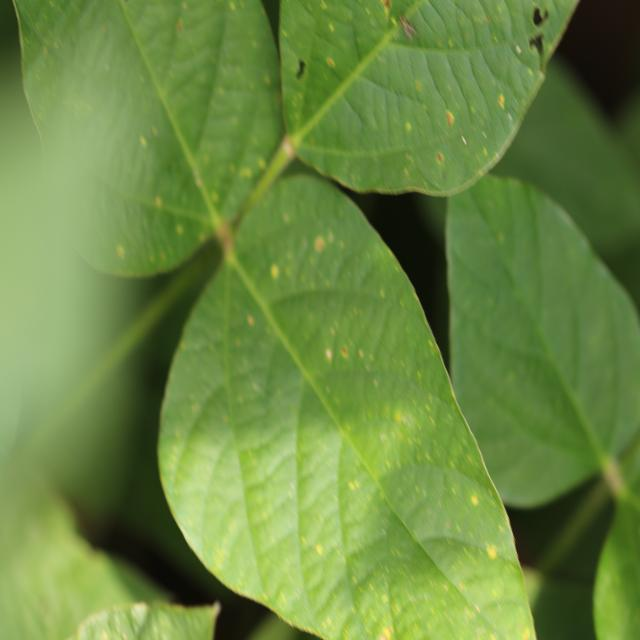Soybean: (9, 0, 640, 640)
downey_mildew: (327, 345, 448, 527), (553, 211, 633, 445), (41, 22, 151, 167), (384, 527, 503, 635), (375, 0, 543, 71), (476, 334, 582, 440), (76, 177, 191, 267), (311, 298, 399, 390), (28, 5, 105, 105), (405, 67, 476, 170), (235, 391, 296, 501), (266, 219, 342, 303), (448, 475, 512, 568), (17, 8, 44, 154), (264, 605, 335, 638), (328, 92, 371, 141), (13, 5, 28, 99), (398, 15, 417, 43), (131, 603, 148, 631), (315, 236, 325, 252), (240, 167, 252, 179), (497, 93, 505, 110), (270, 264, 279, 279), (382, 626, 392, 639), (116, 245, 125, 259), (348, 480, 358, 491), (252, 381, 261, 393), (382, 0, 391, 12), (176, 18, 183, 33), (279, 591, 287, 604), (315, 544, 323, 556), (404, 121, 412, 132), (327, 57, 335, 68), (211, 191, 219, 202), (341, 346, 348, 358), (325, 348, 332, 360), (378, 632, 388, 640), (247, 315, 254, 326), (101, 630, 109, 639), (320, 1, 327, 11), (263, 74, 270, 84), (415, 80, 421, 91), (469, 105, 476, 114), (390, 17, 397, 26), (259, 159, 266, 168), (381, 594, 388, 603), (407, 155, 414, 163), (447, 39, 453, 48), (329, 24, 335, 33), (309, 137, 315, 146), (100, 26, 106, 35), (43, 47, 48, 57), (437, 39, 443, 47), (325, 386, 331, 394), (485, 15, 490, 24), (381, 528, 386, 536)
